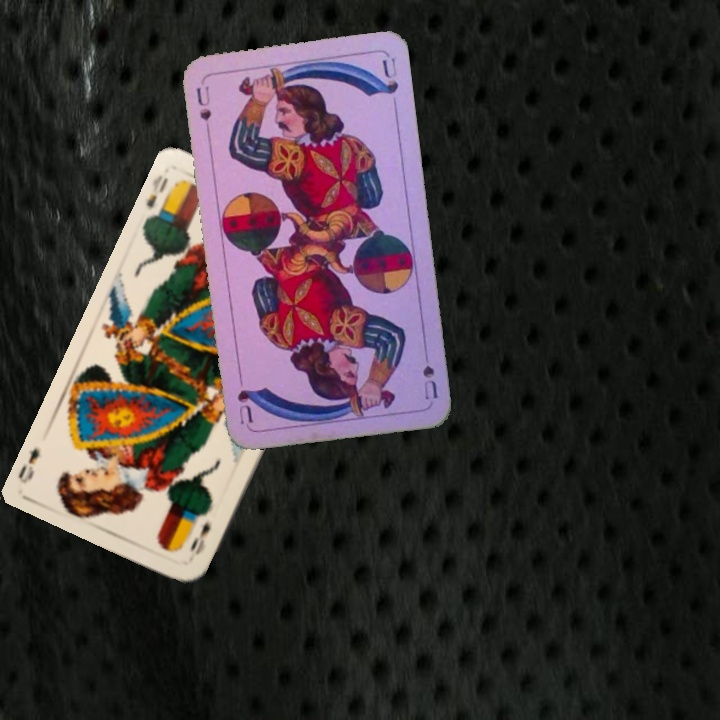EO: (185, 517, 214, 558), (142, 170, 171, 211)
SU: (418, 343, 440, 402), (192, 82, 214, 137)
